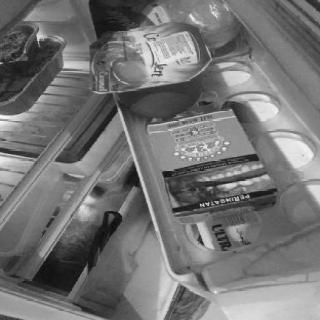objects: (148, 108, 278, 224)
